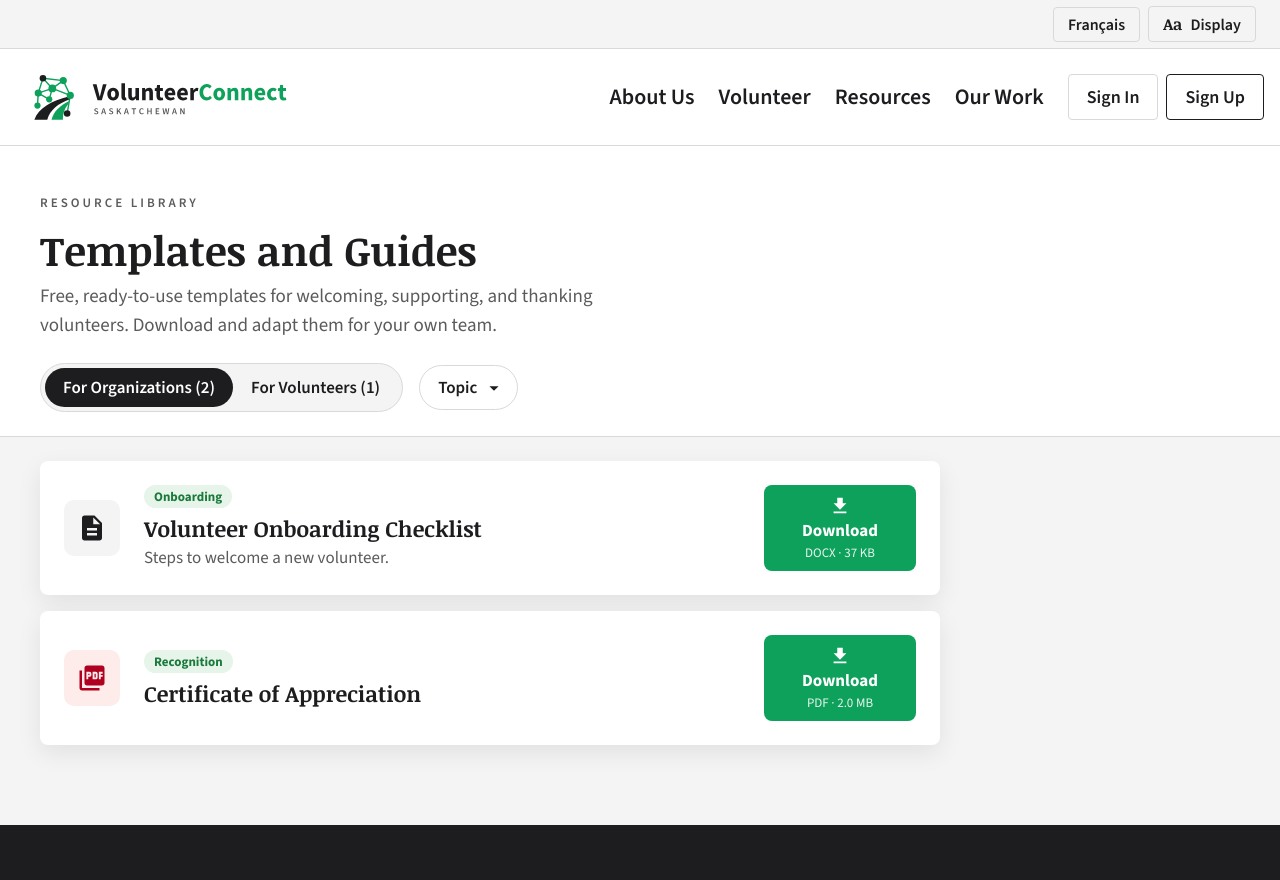
it: switches audience and filters by topic
Check: the heading "Volunteer Onboarding Checklist" is shown, box [144, 513, 482, 543]
Click the button "Topic" at (469, 388), box [419, 365, 518, 410]
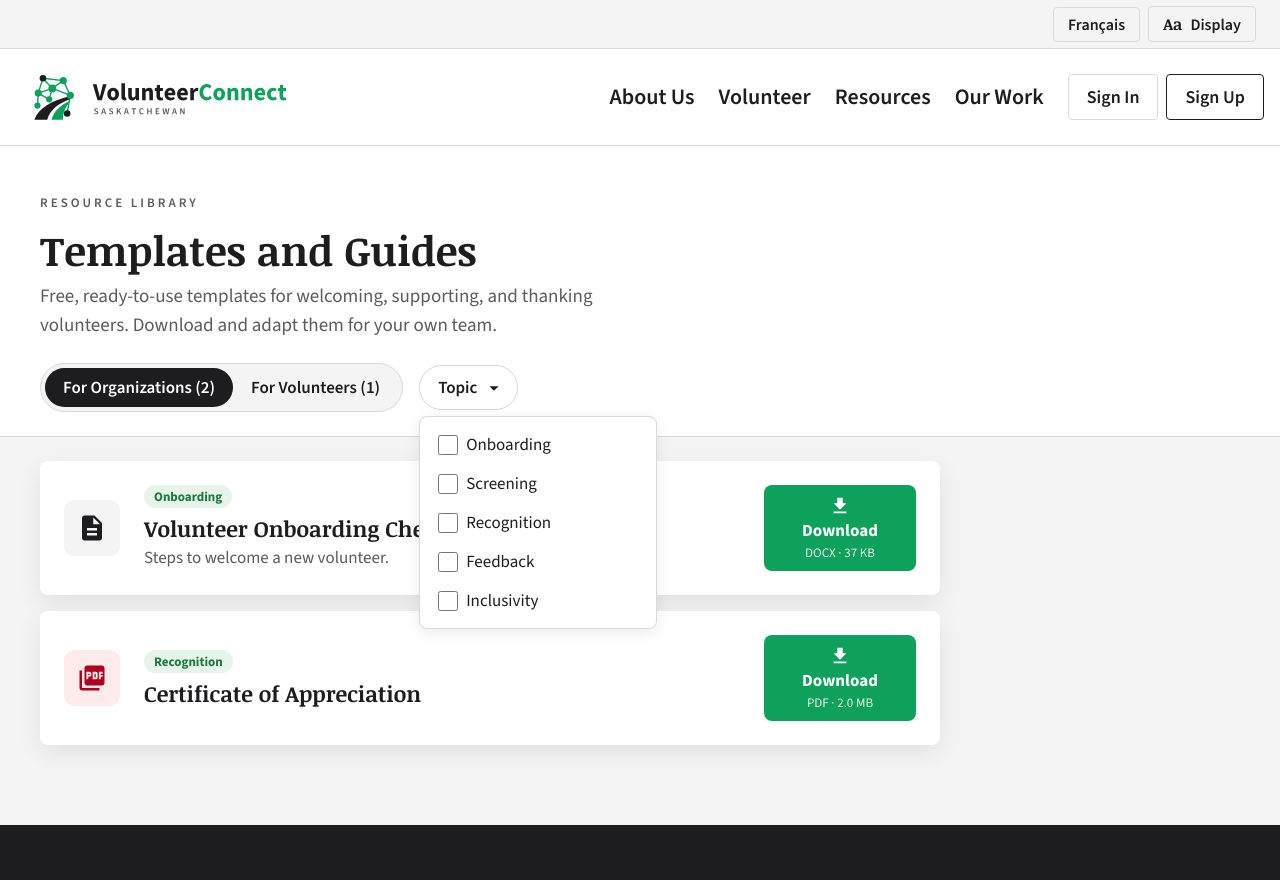
Click the checkbox labelled "Recognition" at (448, 523), box [438, 513, 458, 533]
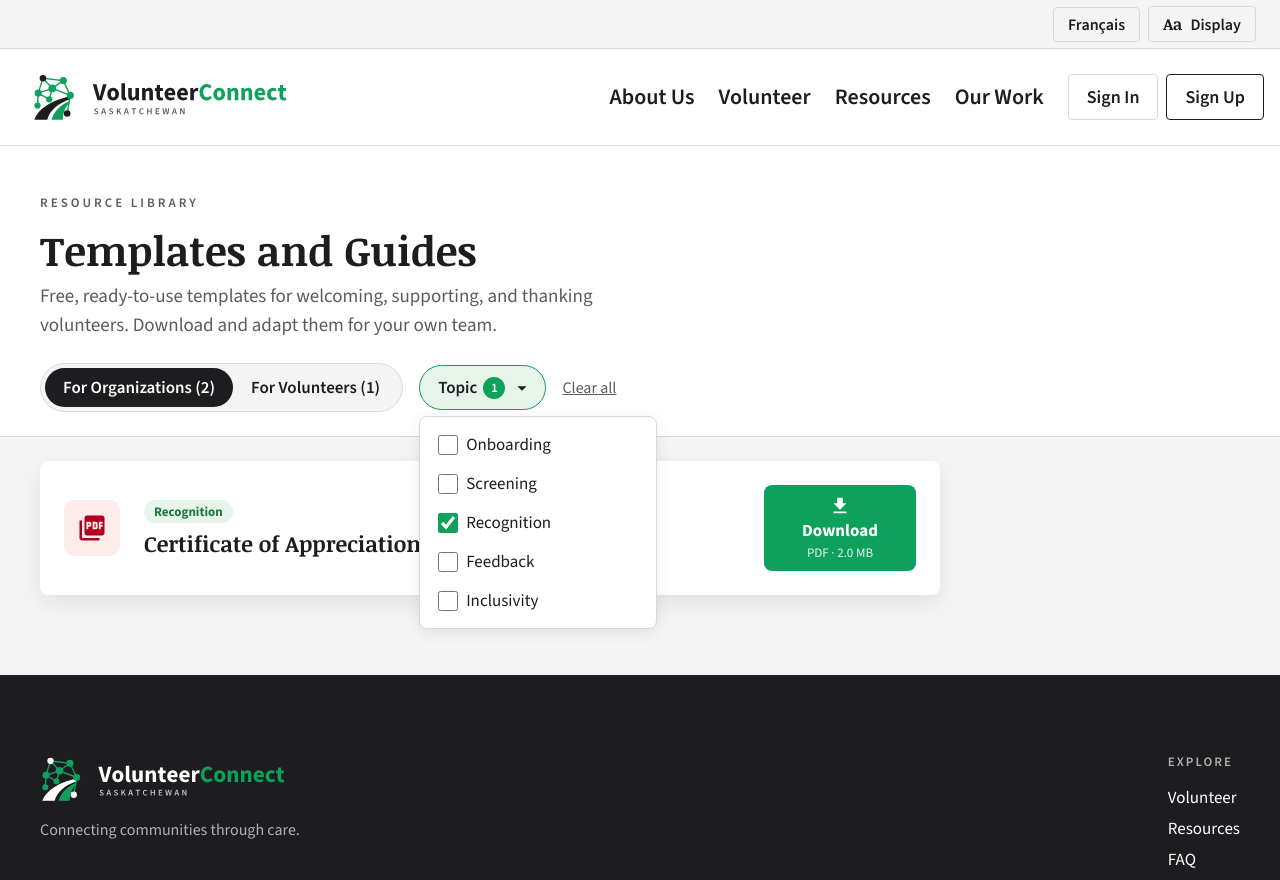
Check: the heading "Certificate of Appreciation" is shown, box [144, 528, 421, 558]
Check: the heading "Volunteer Onboarding Checklist" is gone
Click the tab "For Volunteers (1)" at (316, 388), box [233, 368, 398, 407]
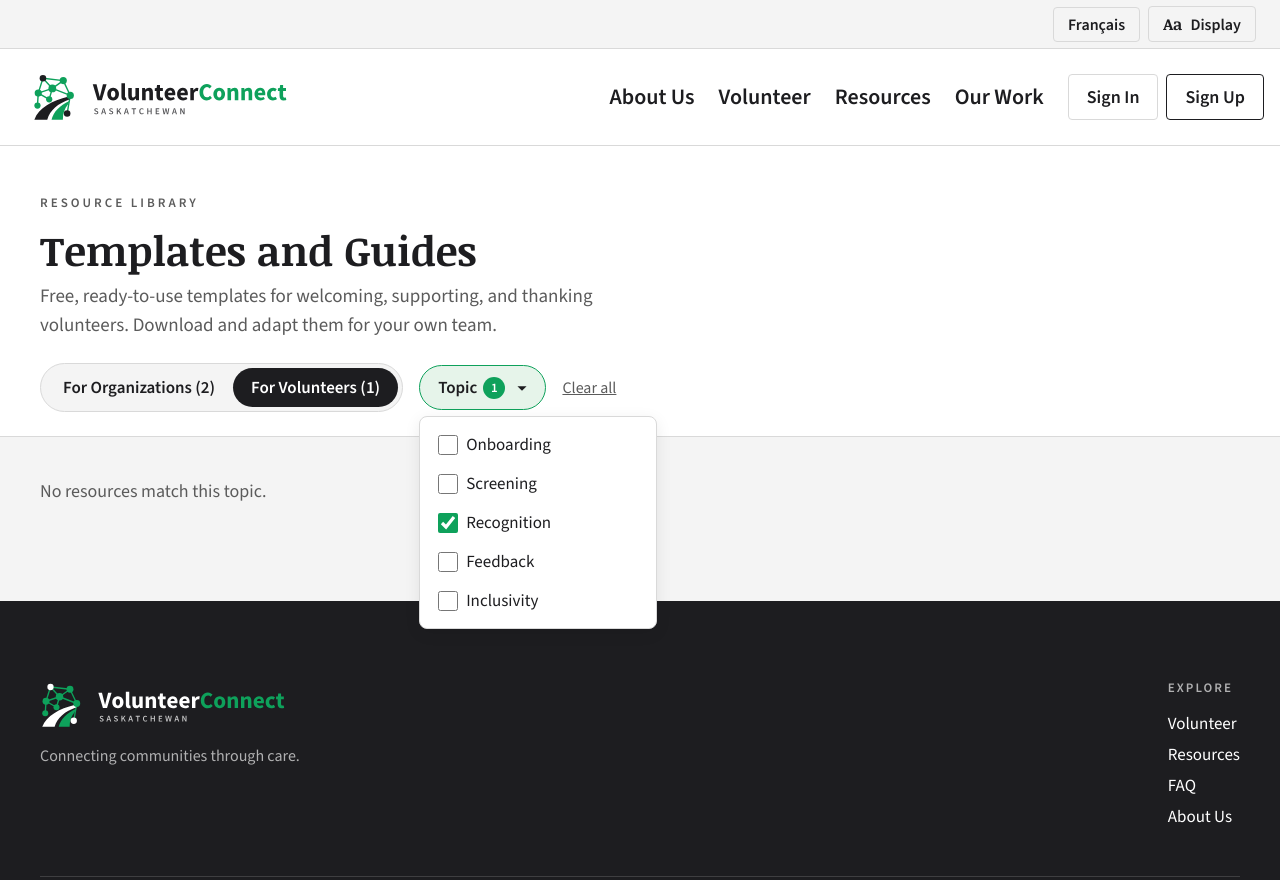
Check: the text "No resources match this topic." is shown, box [40, 479, 266, 503]
Click the button "Clear all" at (589, 388), box [562, 377, 616, 398]
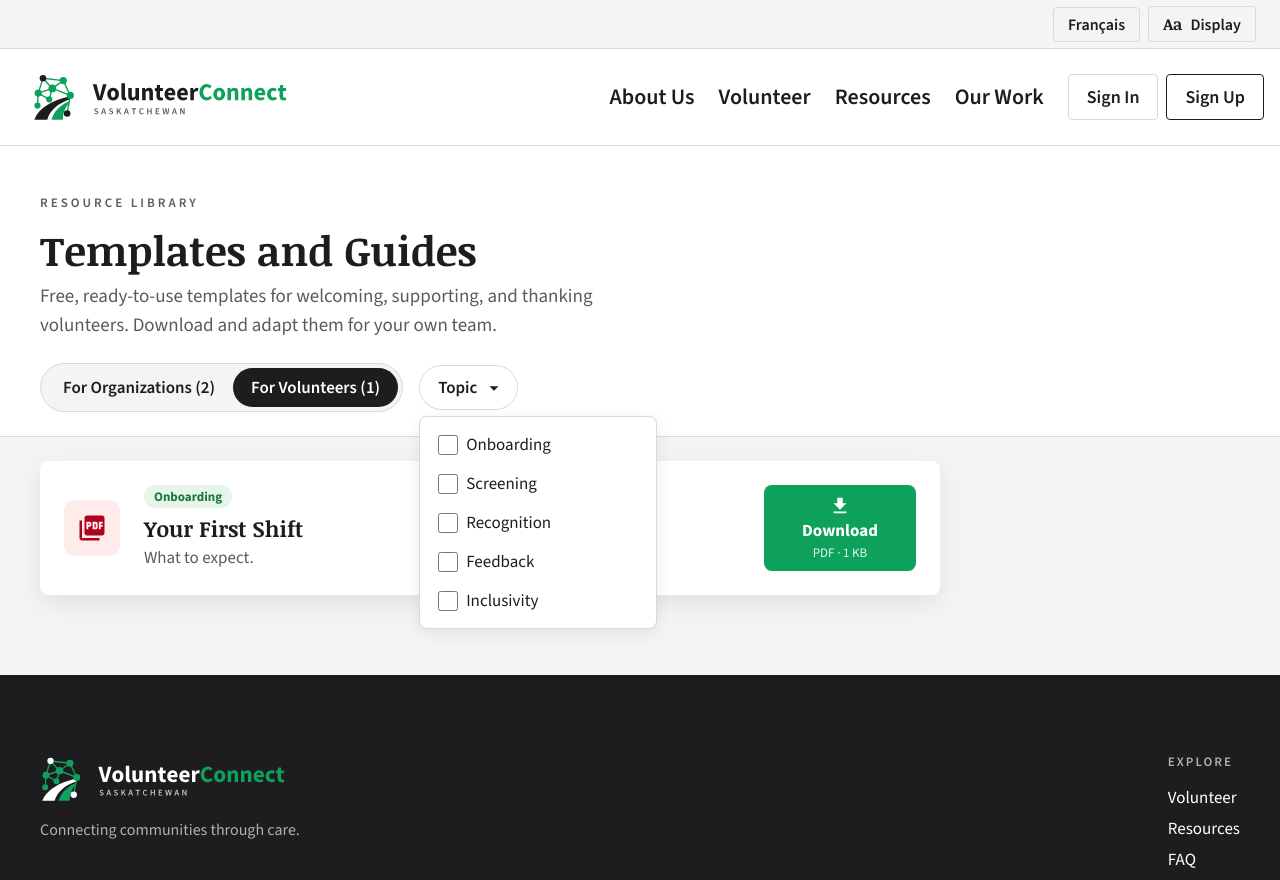
Check: the heading "Your First Shift" is shown, box [144, 513, 303, 543]
